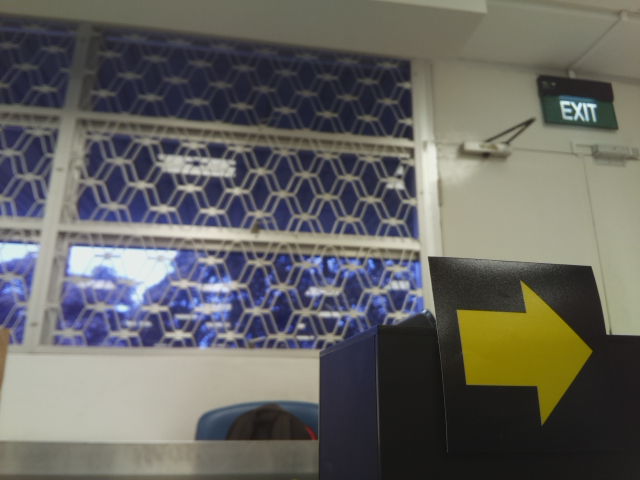right: (444, 261, 597, 431)
